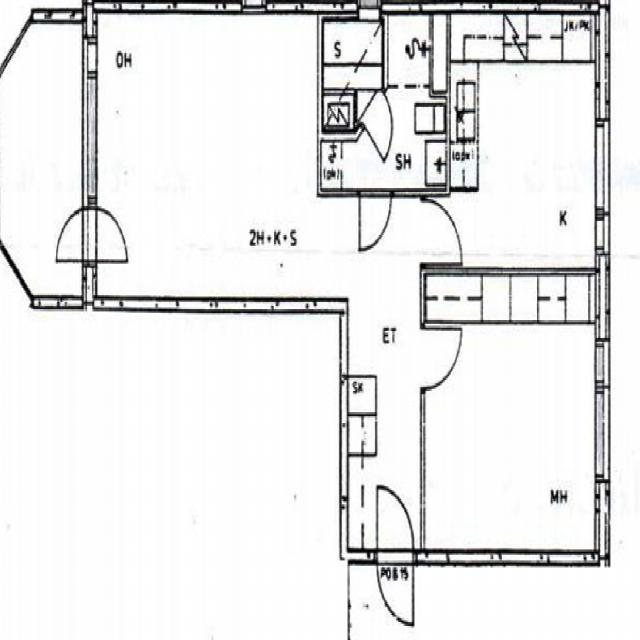door: (361, 87, 404, 160), (377, 550, 413, 626), (377, 489, 413, 565), (420, 199, 462, 264), (420, 328, 460, 388), (56, 208, 96, 261), (88, 208, 128, 261), (359, 189, 391, 249)
